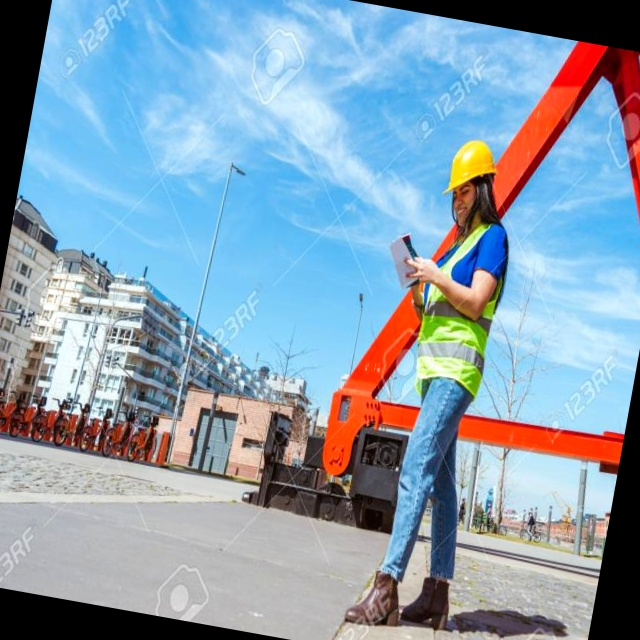goggles: (422, 158, 458, 179)
helmet: (408, 112, 474, 170)
vest: (405, 188, 499, 363)
